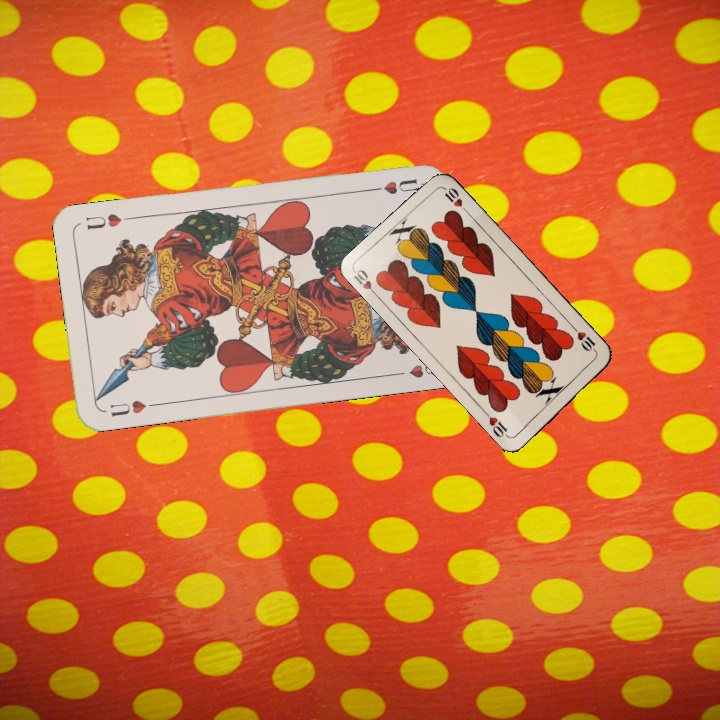H10: (348, 265, 382, 301), (569, 323, 600, 356)
HU: (365, 174, 421, 197), (106, 396, 160, 419)
